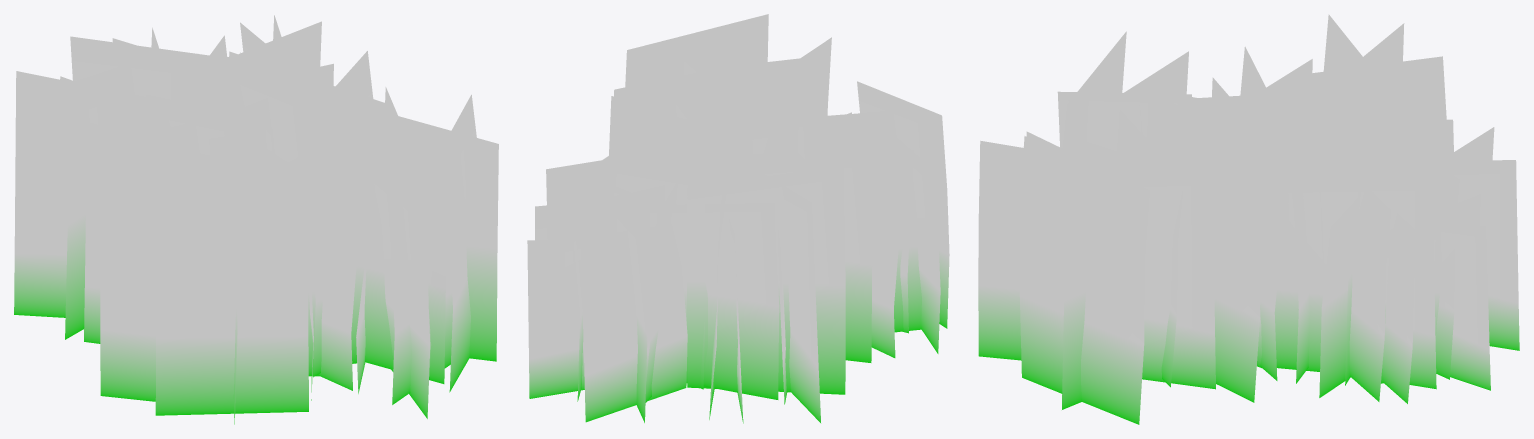
The model's file is S_Grass_01A.fbx.
The picture shows the model from 3 angles, left to right: view 1: azimuth 30°, elevation 25°; view 2: azimuth 150°, elevation 25°; view 3: azimuth 270°, elevation 25°; orthographic projection. The views are drawn at different scales.
Visible parts, largest first — view 1: S_Grass_01A; view 2: S_Grass_01A; view 3: S_Grass_01A.
Part boxes in pixels (bbox=[...]): S_Grass_01A: bbox=[14, 15, 498, 424]; S_Grass_01A: bbox=[527, 14, 949, 423]; S_Grass_01A: bbox=[978, 14, 1519, 424].
Size of the model in its own units: 118 by 80.91 by 153.
